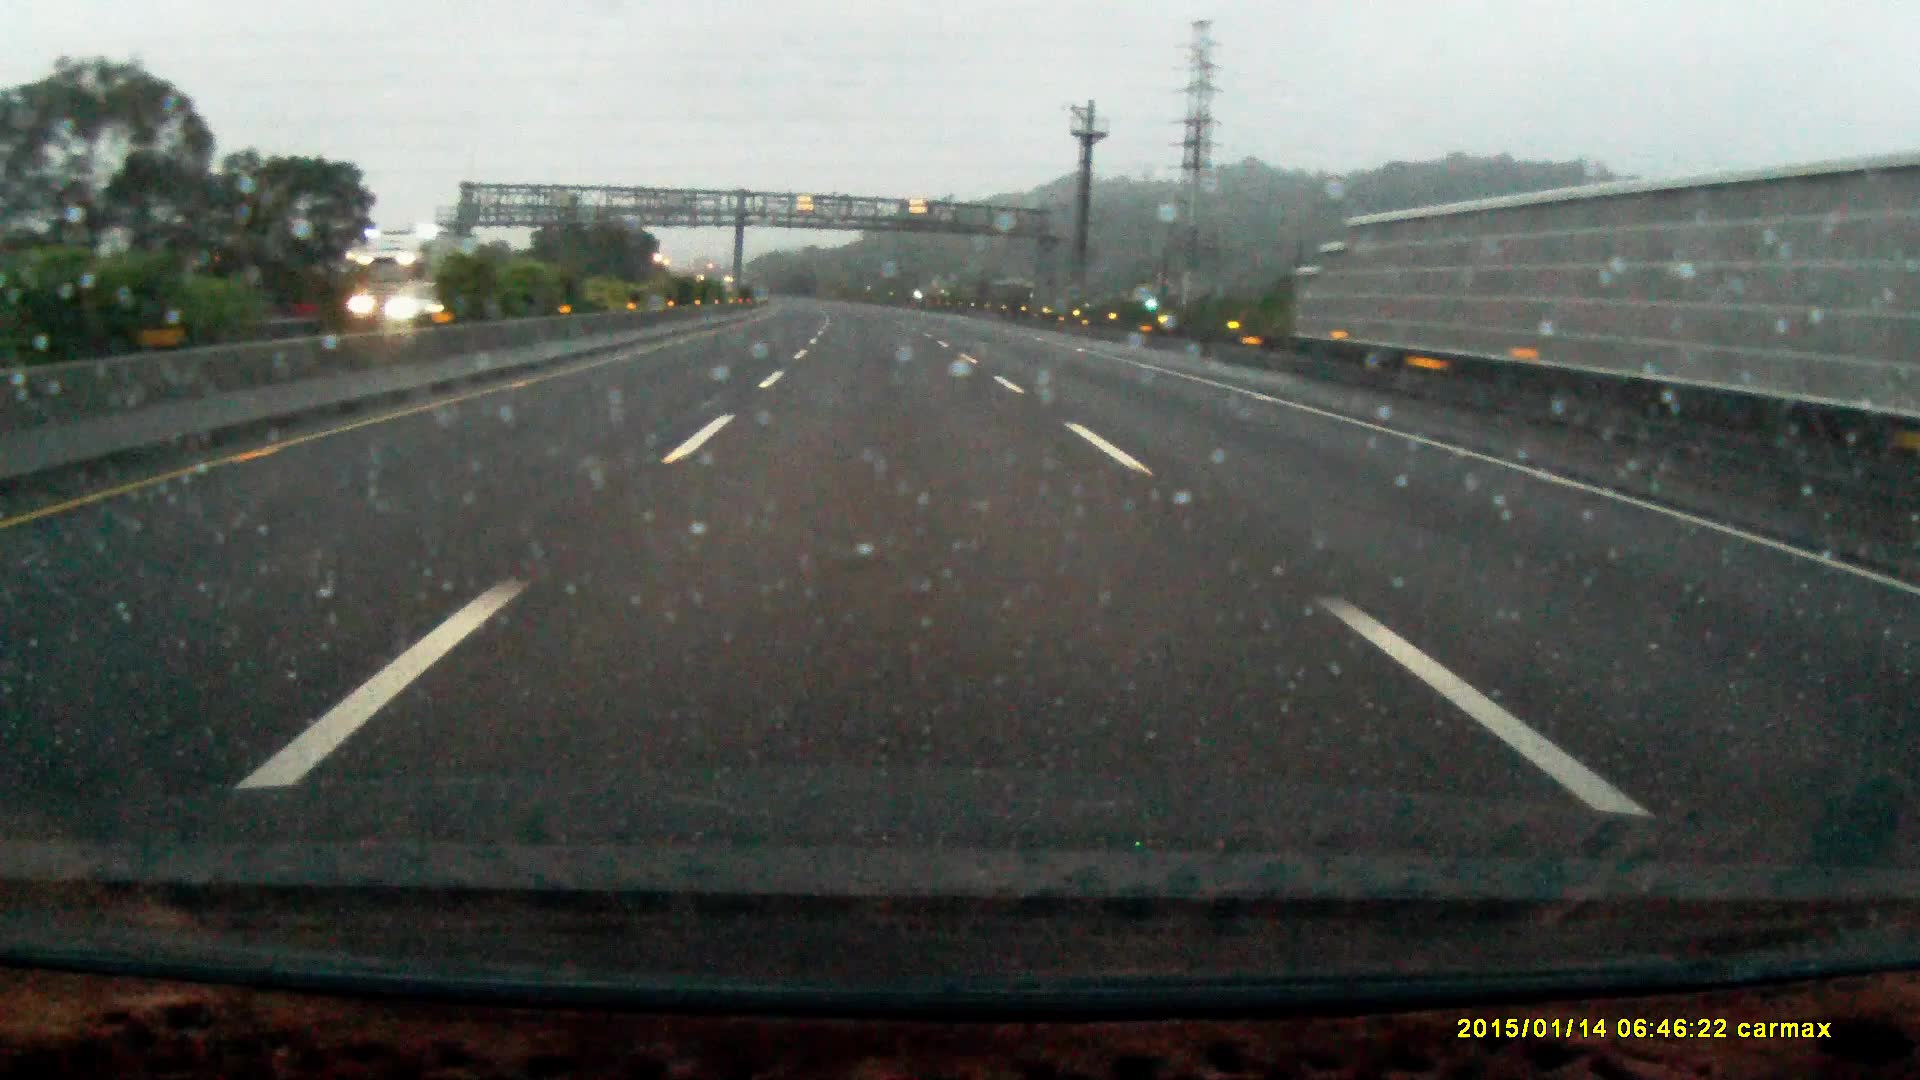vehicle: (351, 232, 480, 324), (382, 280, 469, 323)
